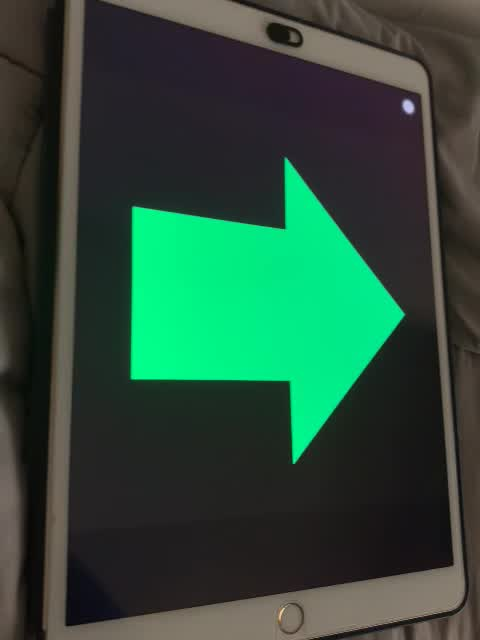right: (128, 148, 406, 471)
